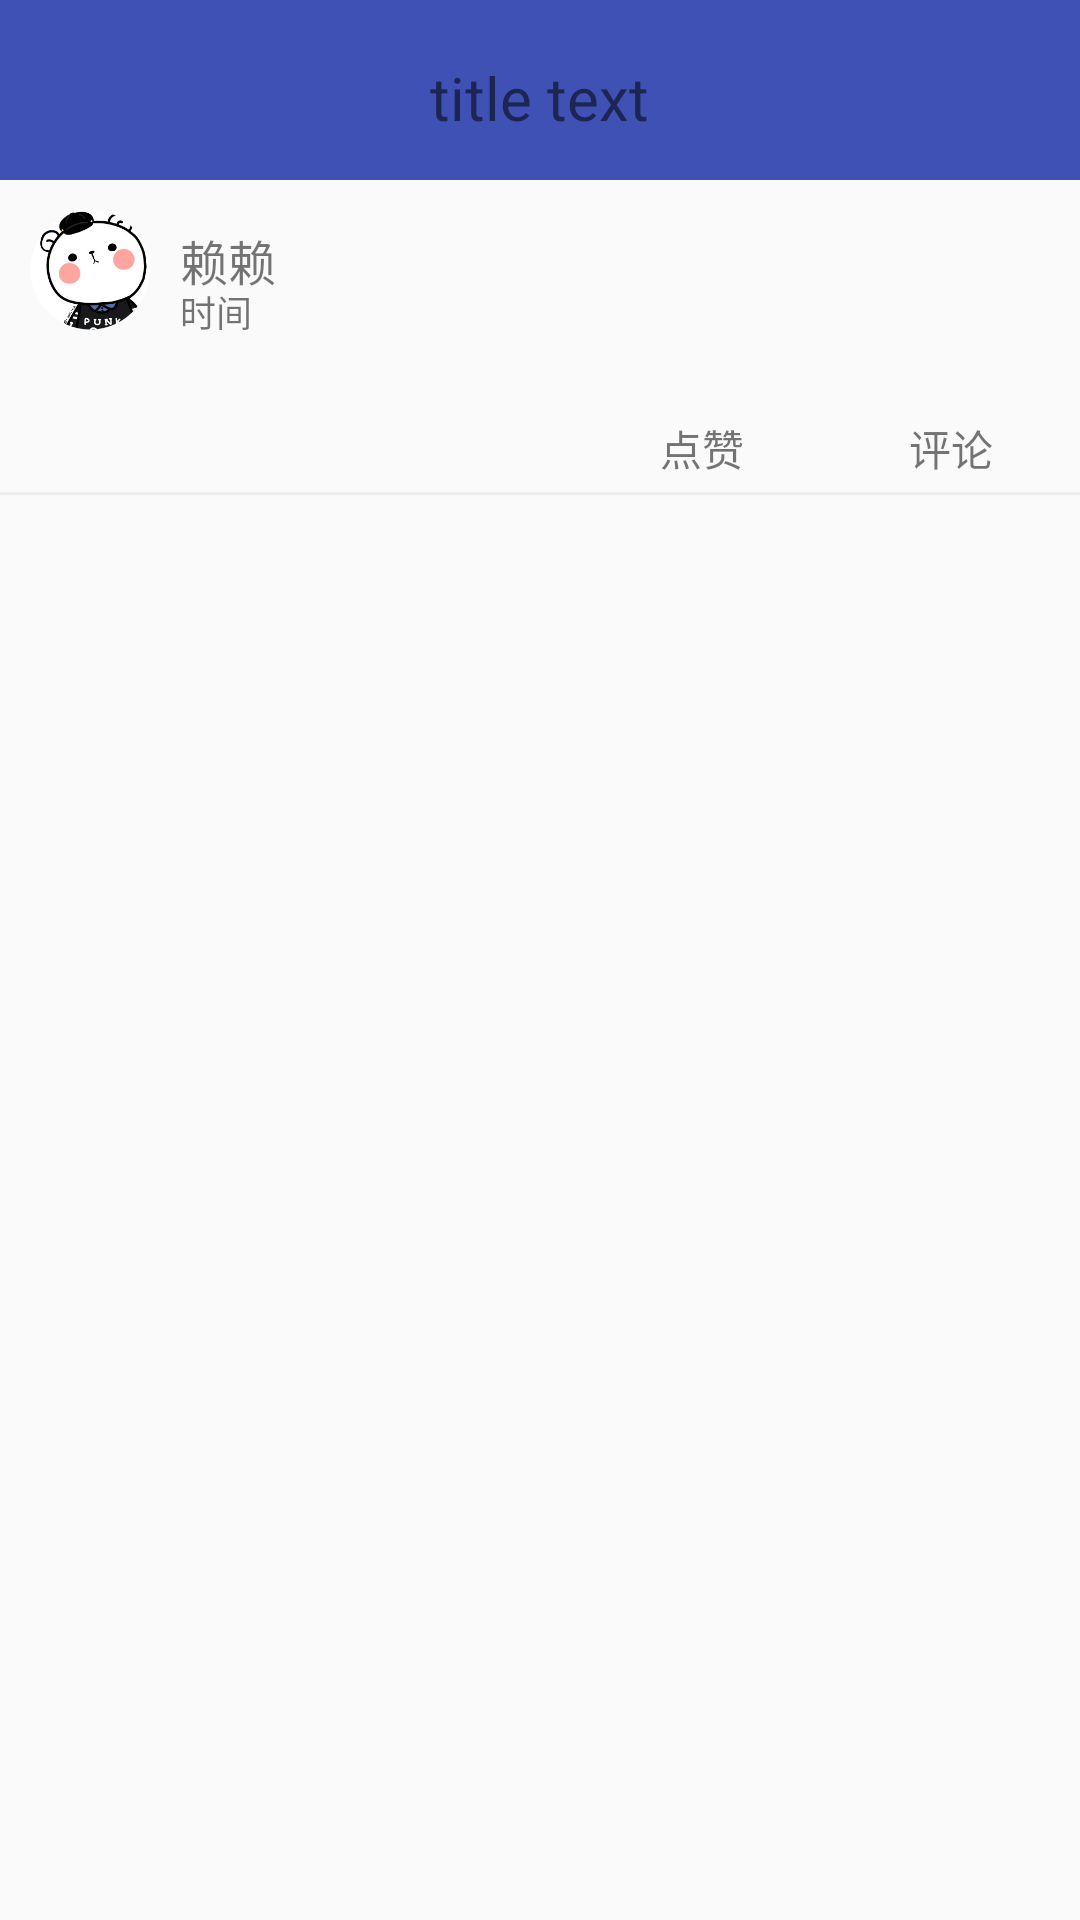

Icon click points for this 1080w x 1920h phone screenshot, format (x,y):
head: (93,271)
